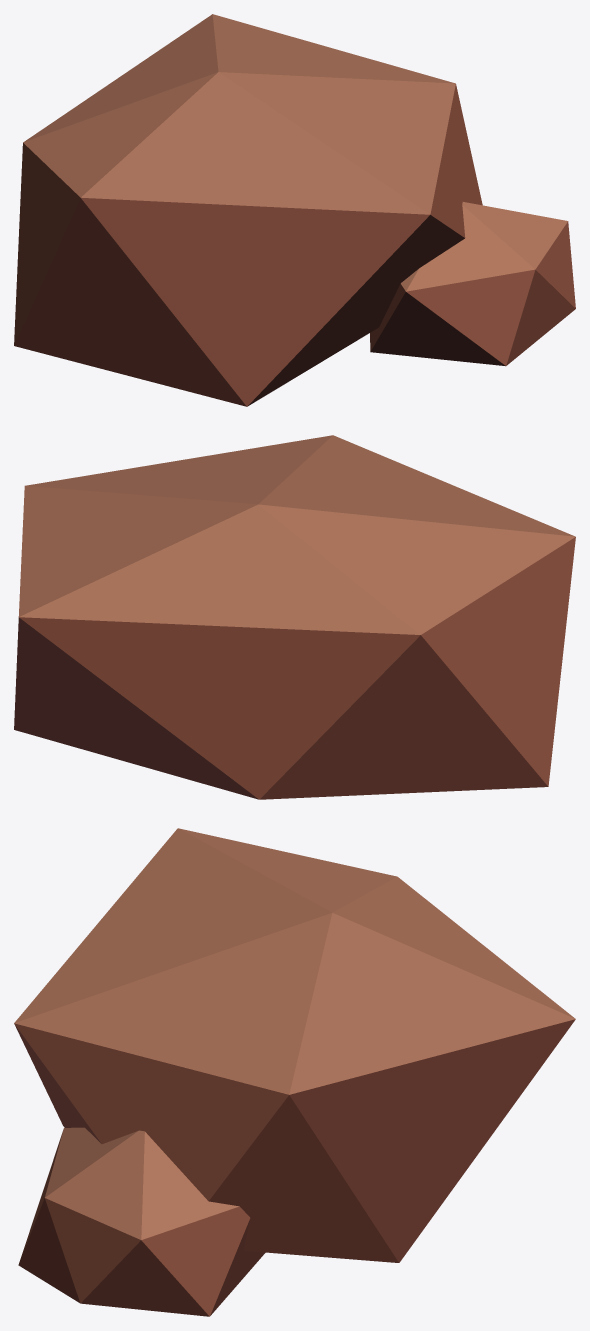
File: rock_red.fbx
The picture shows the model from 3 angles, top to bottom: view 1: azimuth 30°, elevation 25°; view 2: azimuth 150°, elevation 25°; view 3: azimuth 270°, elevation 25°; orthographic projection. The views are drawn at different scales.
Visible parts, largest first — view 1: rock_red; view 2: rock_red; view 3: rock_red.
Part boxes in pixels (x1,y1,x2,y2): rock_red: (14, 14, 575, 406); rock_red: (14, 435, 575, 799); rock_red: (14, 828, 575, 1316).
Bounding box in the file's own units: 0.4121 × 0.198 × 0.3523.
